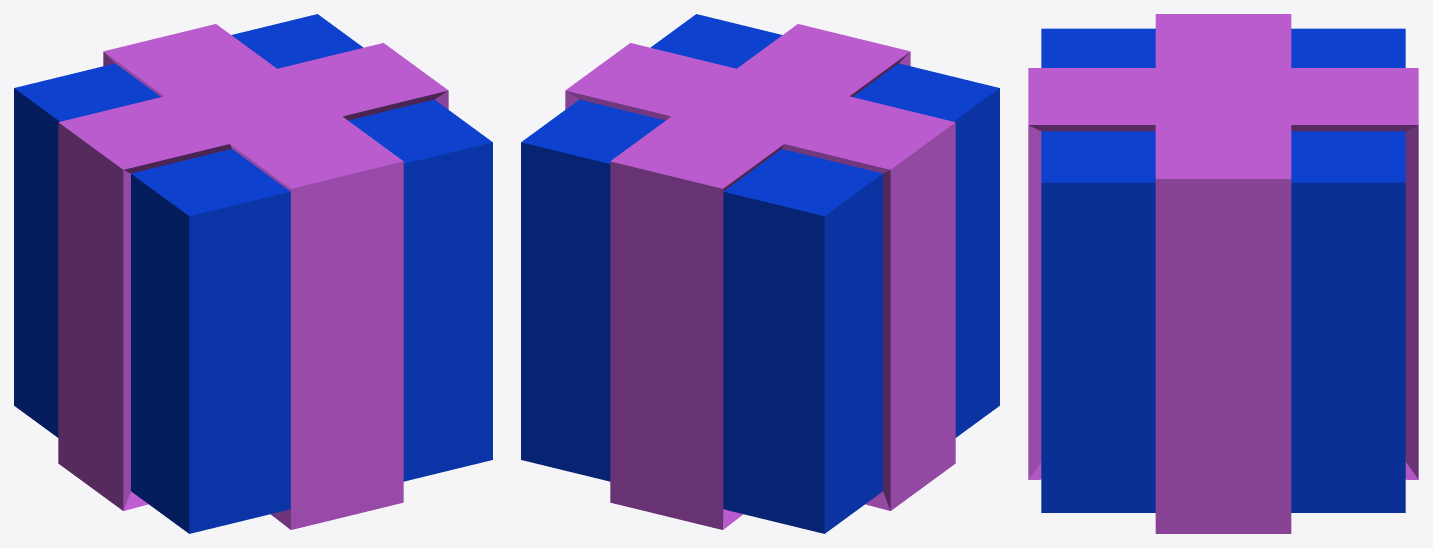
The model's file is Caja.fbx.
3 views of the same model, side by side, from view 1: azimuth 30°, elevation 25°; view 2: azimuth 150°, elevation 25°; view 3: azimuth 270°, elevation 25° (orthographic). The views are drawn at different scales.
Parts seen in each view (by area): view 1: Cube; view 2: Cube; view 3: Cube.
Part boxes in pixels (x1,y1,x2,y2): Cube: [14, 14, 492, 533]; Cube: [521, 14, 999, 533]; Cube: [1028, 14, 1418, 533].
Bounding box in the file's own units: 214 × 215 × 214.
